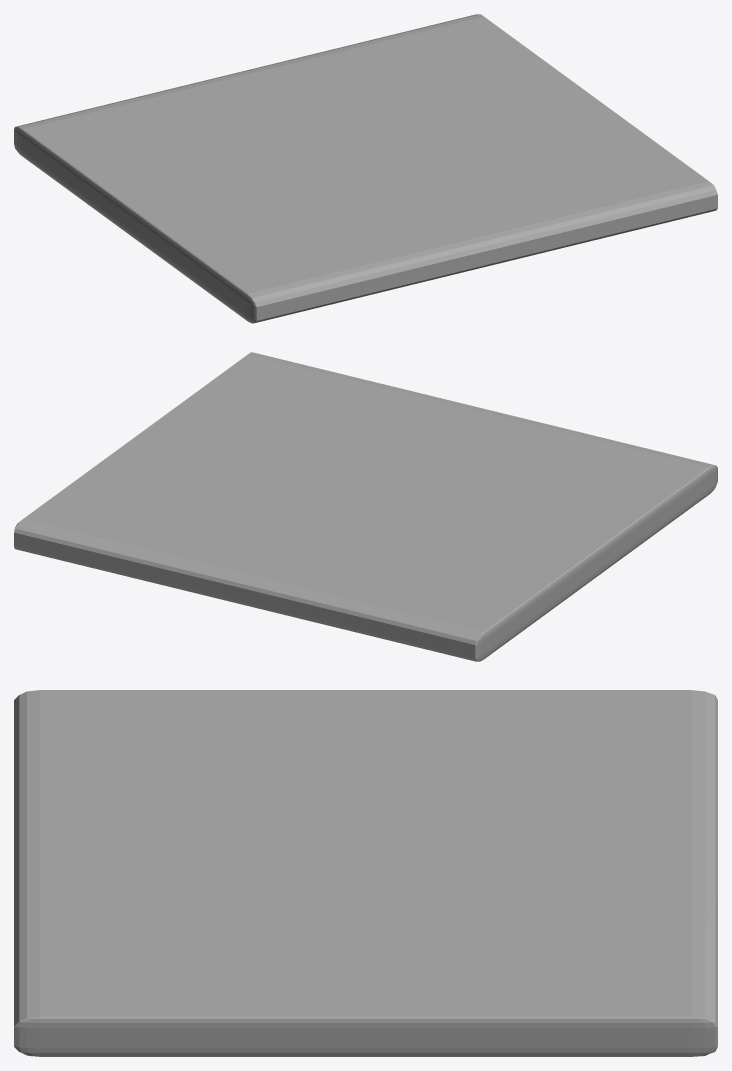
File: Pillars_Floor_Block.fbx
3 renders of one model, top to bottom at view 1: azimuth 30°, elevation 25°; view 2: azimuth 150°, elevation 25°; view 3: azimuth 270°, elevation 25°, orthographic. The views are drawn at different scales.
Visible parts, largest first — view 1: Floor.001; view 2: Floor.001; view 3: Floor.001.
Part boxes in pixels (bbox=[...]): Floor.001: bbox=[14, 14, 717, 323]; Floor.001: bbox=[14, 352, 717, 661]; Floor.001: bbox=[14, 690, 717, 1056].
Size of the model in its own units: 127 by 7.22 by 115.
